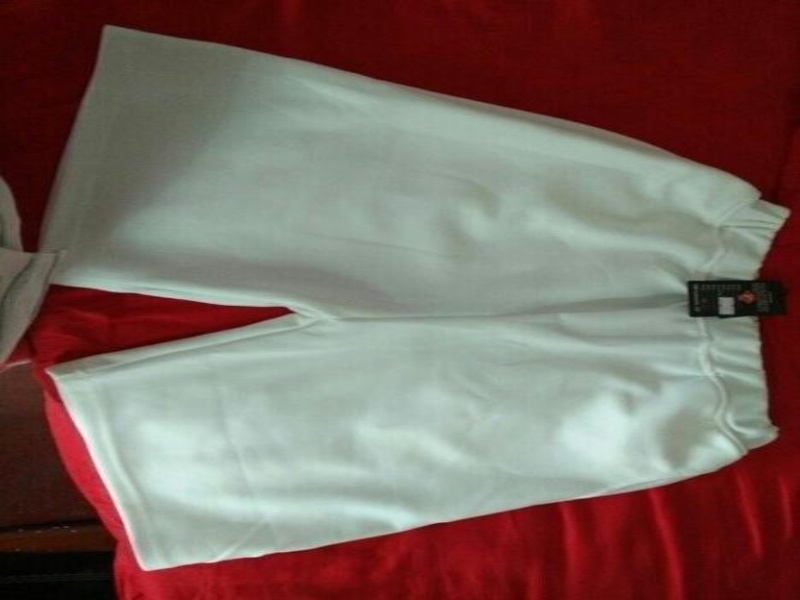shorts: (24, 23, 798, 575)
